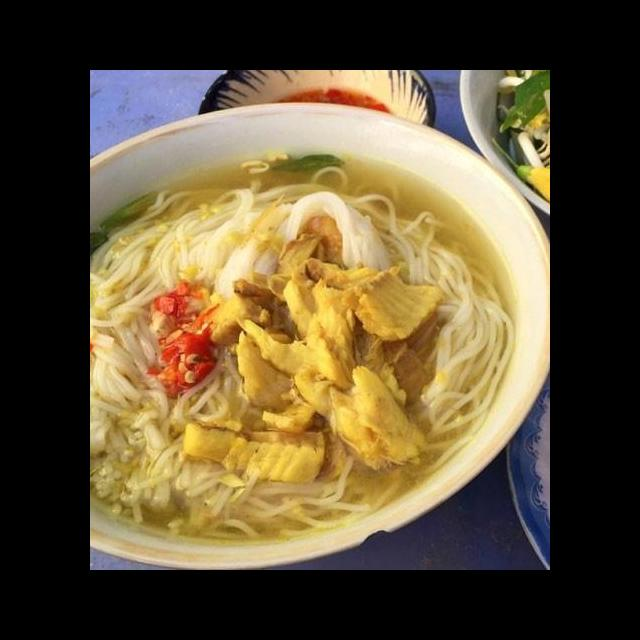bun: (91, 135, 486, 290), (91, 186, 184, 504), (423, 240, 530, 478), (91, 467, 368, 538)
bun ca: (91, 107, 513, 565)
ca: (287, 354, 434, 475), (232, 272, 363, 405), (173, 413, 341, 491), (348, 254, 452, 349)
